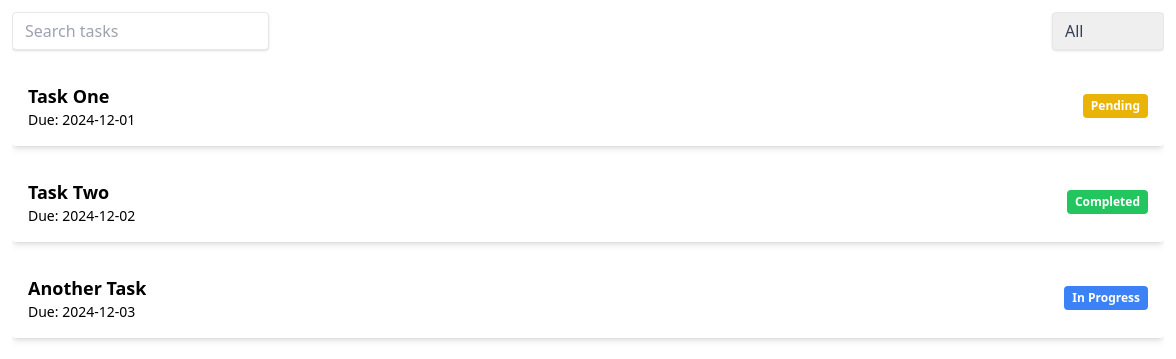
Test: TaskList › filters tasks by status
Select "Completed" in the dropdown. click: (1108, 31)
box: [1052, 12, 1164, 50]
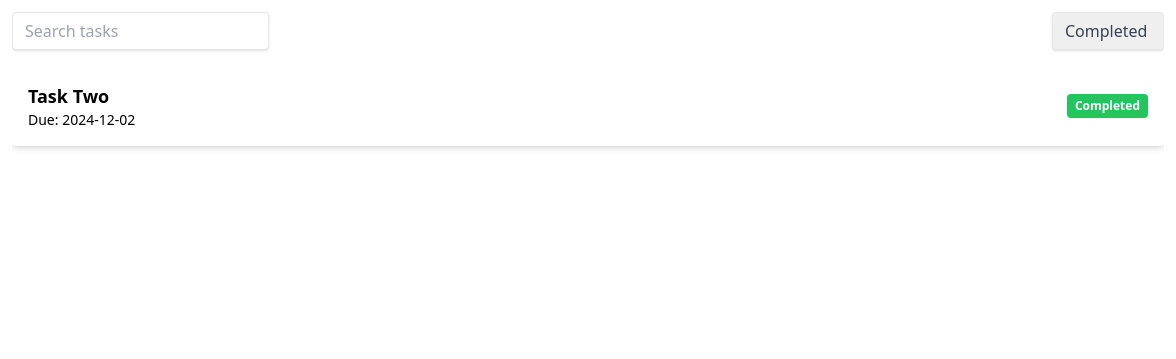
Expected: the heading "Task Two" is shown, [28, 84, 109, 108]
Expected: the button "Task One" is gone
Expected: the button "Another Task" is gone
